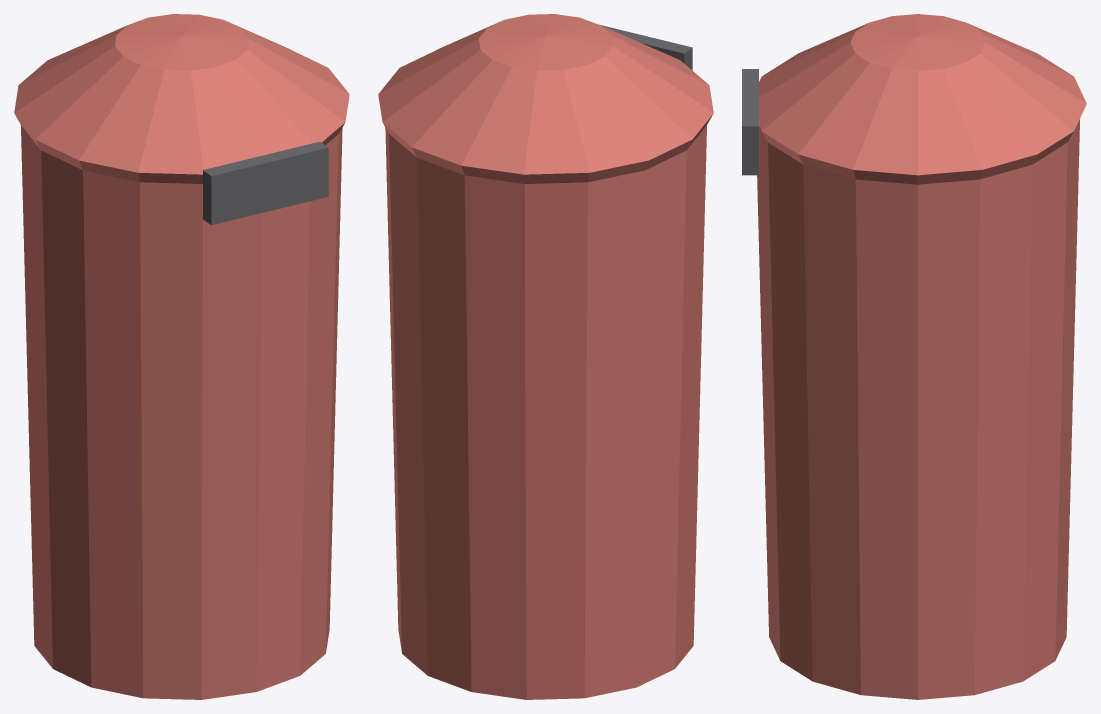
The model's file is trash_can.glb.
3 views of the same model, side by side, from view 1: azimuth 30°, elevation 25°; view 2: azimuth 150°, elevation 25°; view 3: azimuth 270°, elevation 25° (orthographic).
Visible parts, largest first — view 1: trash_can_tile_r, trash_can_dark; view 2: trash_can_tile_r, trash_can_dark; view 3: trash_can_tile_r, trash_can_dark.
Part boxes in pixels (left/top/right/bottom): trash_can_tile_r: left=14, top=14, right=349, bottom=699; trash_can_dark: left=203, top=141, right=328, bottom=225; trash_can_tile_r: left=378, top=14, right=713, bottom=699; trash_can_dark: left=599, top=24, right=692, bottom=70; trash_can_tile_r: left=757, top=14, right=1086, bottom=699; trash_can_dark: left=742, top=69, right=758, bottom=175.
Bounding box in the file's own units: 0.5 × 0.98 × 0.51.
